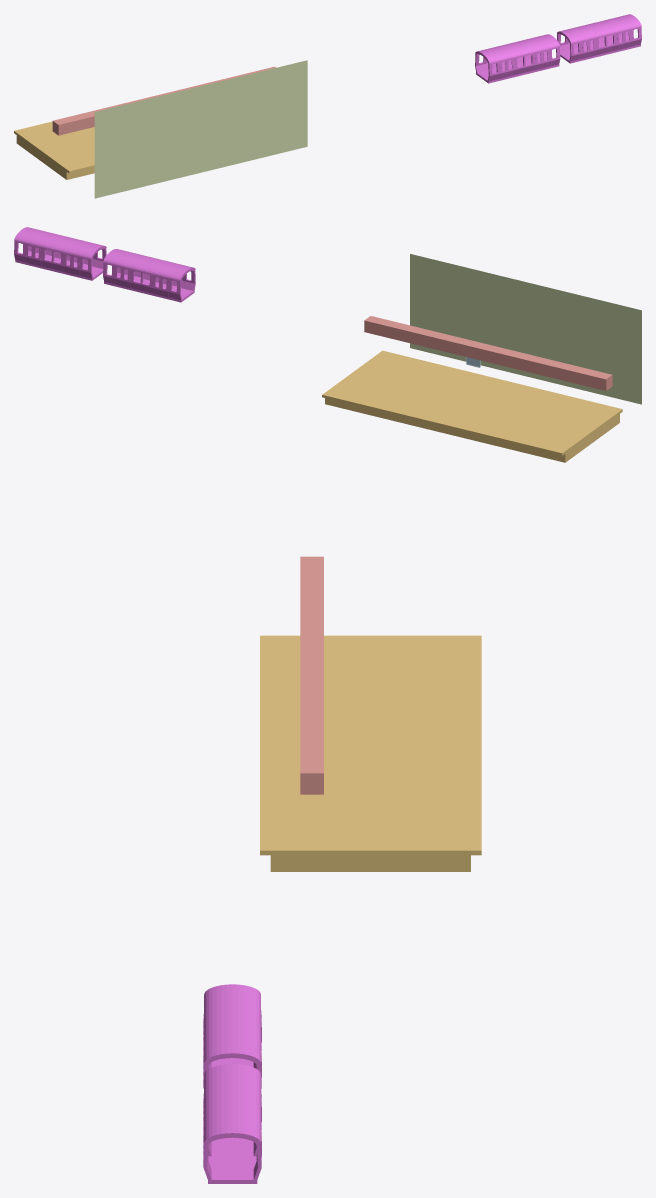
File: Transit-2car-doorAni-552-easing.glb
3 views of the same model, one above another, from view 1: azimuth 30°, elevation 25°; view 2: azimuth 150°, elevation 25°; view 3: azimuth 270°, elevation 25° (orthographic). The views are drawn at different scales.
Parts seen in each view (by area): view 1: Wall-Plane, Train-Complete, Platform, Roof.002; view 2: Wall-Plane, Platform, Train-Complete, Roof.002, Door-right, Door-Left; view 3: Platform, Train-Complete, Roof.002.
Part boxes in pixels (left/top/right/bottom): Wall-Plane: left=94, top=60, right=307, bottom=198; Train-Complete: left=475, top=14, right=641, bottom=83; Platform: left=14, top=121, right=94, bottom=179; Roof.002: left=52, top=66, right=275, bottom=135; Wall-Plane: left=410, top=254, right=641, bottom=404; Platform: left=322, top=350, right=622, bottom=462; Train-Complete: left=14, top=227, right=195, bottom=302; Roof.002: left=364, top=316, right=612, bottom=390; Door-right: left=33, top=245, right=168, bottom=297; Door-Left: left=26, top=244, right=161, bottom=295; Platform: left=260, top=635, right=481, bottom=871; Train-Complete: left=203, top=984, right=261, bottom=1183; Roof.002: left=300, top=556, right=323, bottom=794.
Bounding box in the file's own units: 110 × 16.24 × 26.14.
